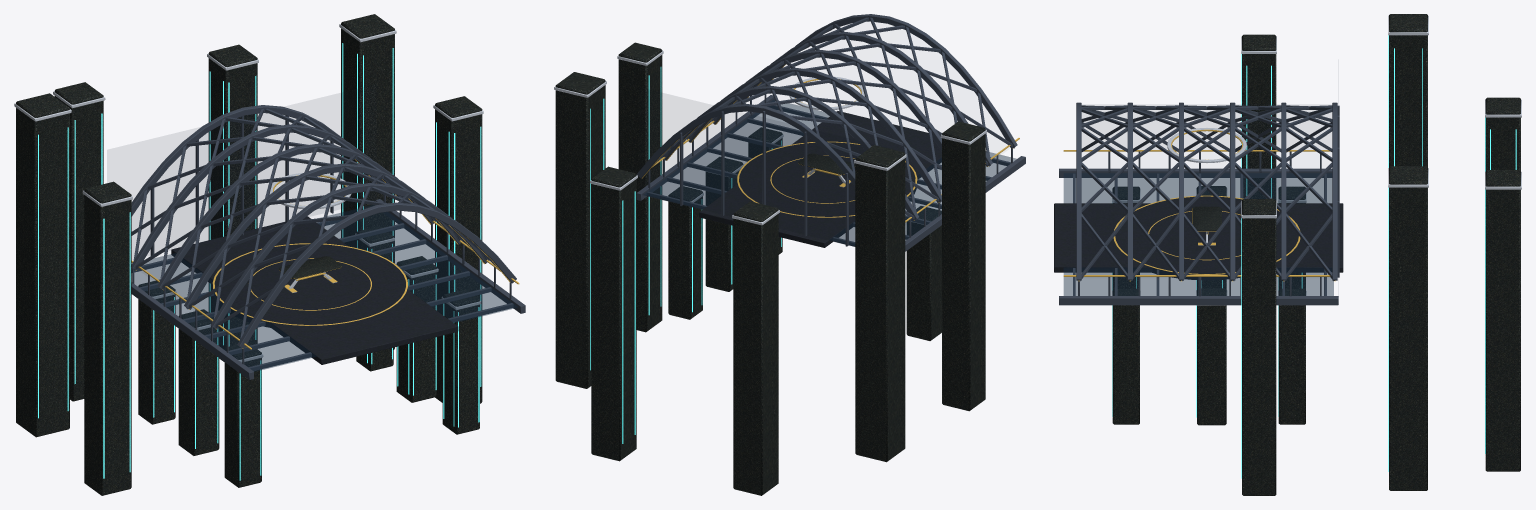
The model's file is singapore_skybridge_room.glb.
The picture shows the model from 3 angles, left to right: view 1: azimuth 30°, elevation 25°; view 2: azimuth 150°, elevation 25°; view 3: azimuth 270°, elevation 25°; orthographic projection. The views are drawn at different scales.
Visible parts, largest first — view 1: Ledger_Monolith_Bodies, Singapore_SkyBridge_Trusses, Singapore_Bridge_GraniteDeck, Singapore_Floor_Glass, Singapore_Window_Glass, Ledger_Telemetry_Buses, Ledger_Monolith_Collars, Singapore_Bridge_GoldInlay, Singapore_Table_Obsidian; view 2: Ledger_Monolith_Bodies, Singapore_SkyBridge_Trusses, Singapore_Bridge_GraniteDeck, Singapore_Floor_Glass, Ledger_Telemetry_Buses, Ledger_Monolith_Collars, Singapore_Bridge_GoldInlay, Singapore_Window_Glass, Singapore_Table_Obsidian; view 3: Ledger_Monolith_Bodies, Singapore_SkyBridge_Trusses, Singapore_Bridge_GraniteDeck, Singapore_Floor_Glass, Ledger_Telemetry_Buses, Singapore_Bridge_GoldInlay, Ledger_Monolith_Collars, Singapore_Table_Obsidian.
Part boxes in pixels (box(x1,y1,x2,y2)): Ledger_Monolith_Bodies: box(16, 14, 482, 495); Singapore_SkyBridge_Trusses: box(131, 105, 525, 379); Singapore_Bridge_GraniteDeck: box(171, 216, 458, 364); Singapore_Floor_Glass: box(131, 205, 517, 371); Singapore_Window_Glass: box(132, 113, 375, 259); Ledger_Telemetry_Buses: box(38, 43, 481, 480); Ledger_Monolith_Collars: box(14, 24, 483, 362); Singapore_Bridge_GoldInlay: box(131, 159, 519, 349); Singapore_Table_Obsidian: box(278, 256, 341, 279); Ledger_Monolith_Bodies: box(555, 42, 985, 495); Singapore_SkyBridge_Trusses: box(636, 14, 1025, 251); Singapore_Bridge_GraniteDeck: box(699, 111, 941, 247); Singapore_Floor_Glass: box(644, 99, 1016, 246); Ledger_Telemetry_Buses: box(590, 67, 781, 443); Ledger_Monolith_Collars: box(554, 50, 986, 225); Singapore_Bridge_GoldInlay: box(642, 64, 1019, 222); Singapore_Window_Glass: box(662, 106, 873, 173); Singapore_Table_Obsidian: box(798, 153, 855, 174); Ledger_Monolith_Bodies: box(1112, 14, 1520, 495); Singapore_SkyBridge_Trusses: box(1059, 102, 1339, 305); Singapore_Bridge_GraniteDeck: box(1054, 196, 1343, 280); Singapore_Floor_Glass: box(1063, 173, 1333, 295); Ledger_Telemetry_Buses: box(1112, 35, 1516, 478); Singapore_Bridge_GoldInlay: box(1063, 150, 1335, 281); Ledger_Monolith_Collars: box(1112, 15, 1521, 305); Singapore_Table_Obsidian: box(1192, 206, 1221, 231).
Size of the model in its own units: 17.91 by 15.4 by 19.73.
8 materials, 2 textured.
